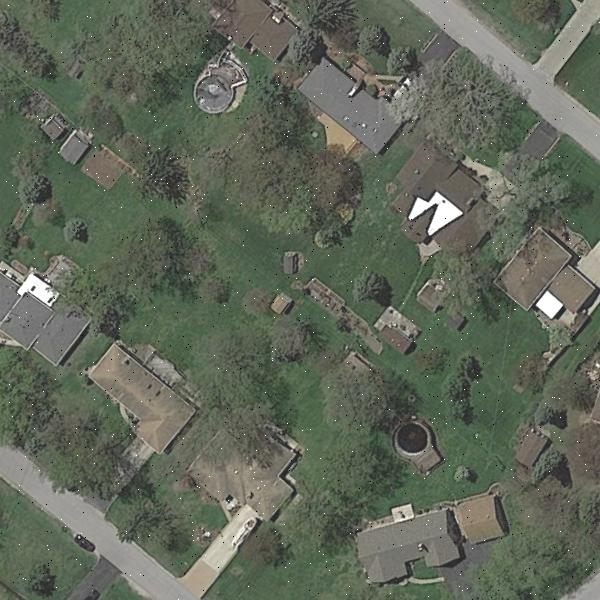Buildings: (360, 501, 496, 575), (94, 343, 188, 449), (195, 442, 298, 522), (392, 164, 488, 239), (1, 271, 80, 357), (507, 242, 586, 318), (316, 65, 392, 144), (216, 2, 288, 56), (512, 426, 552, 472), (374, 316, 410, 348), (39, 112, 66, 136), (62, 143, 84, 160)
